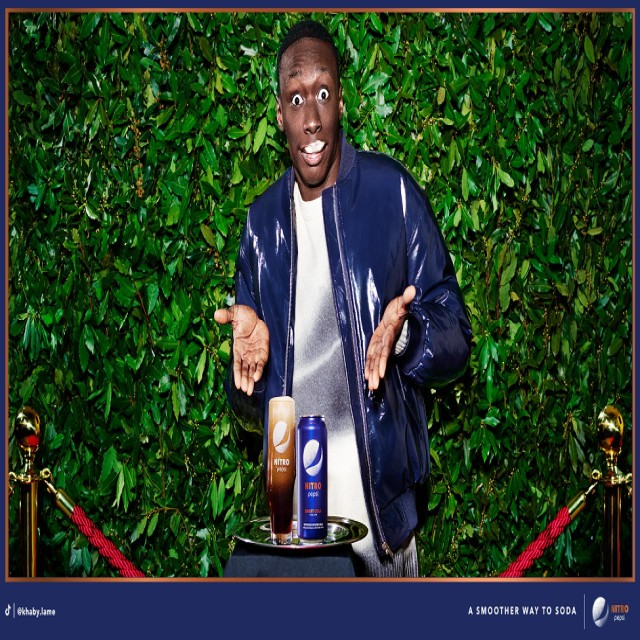pepsi: (303, 436, 324, 482), (272, 419, 292, 459)
